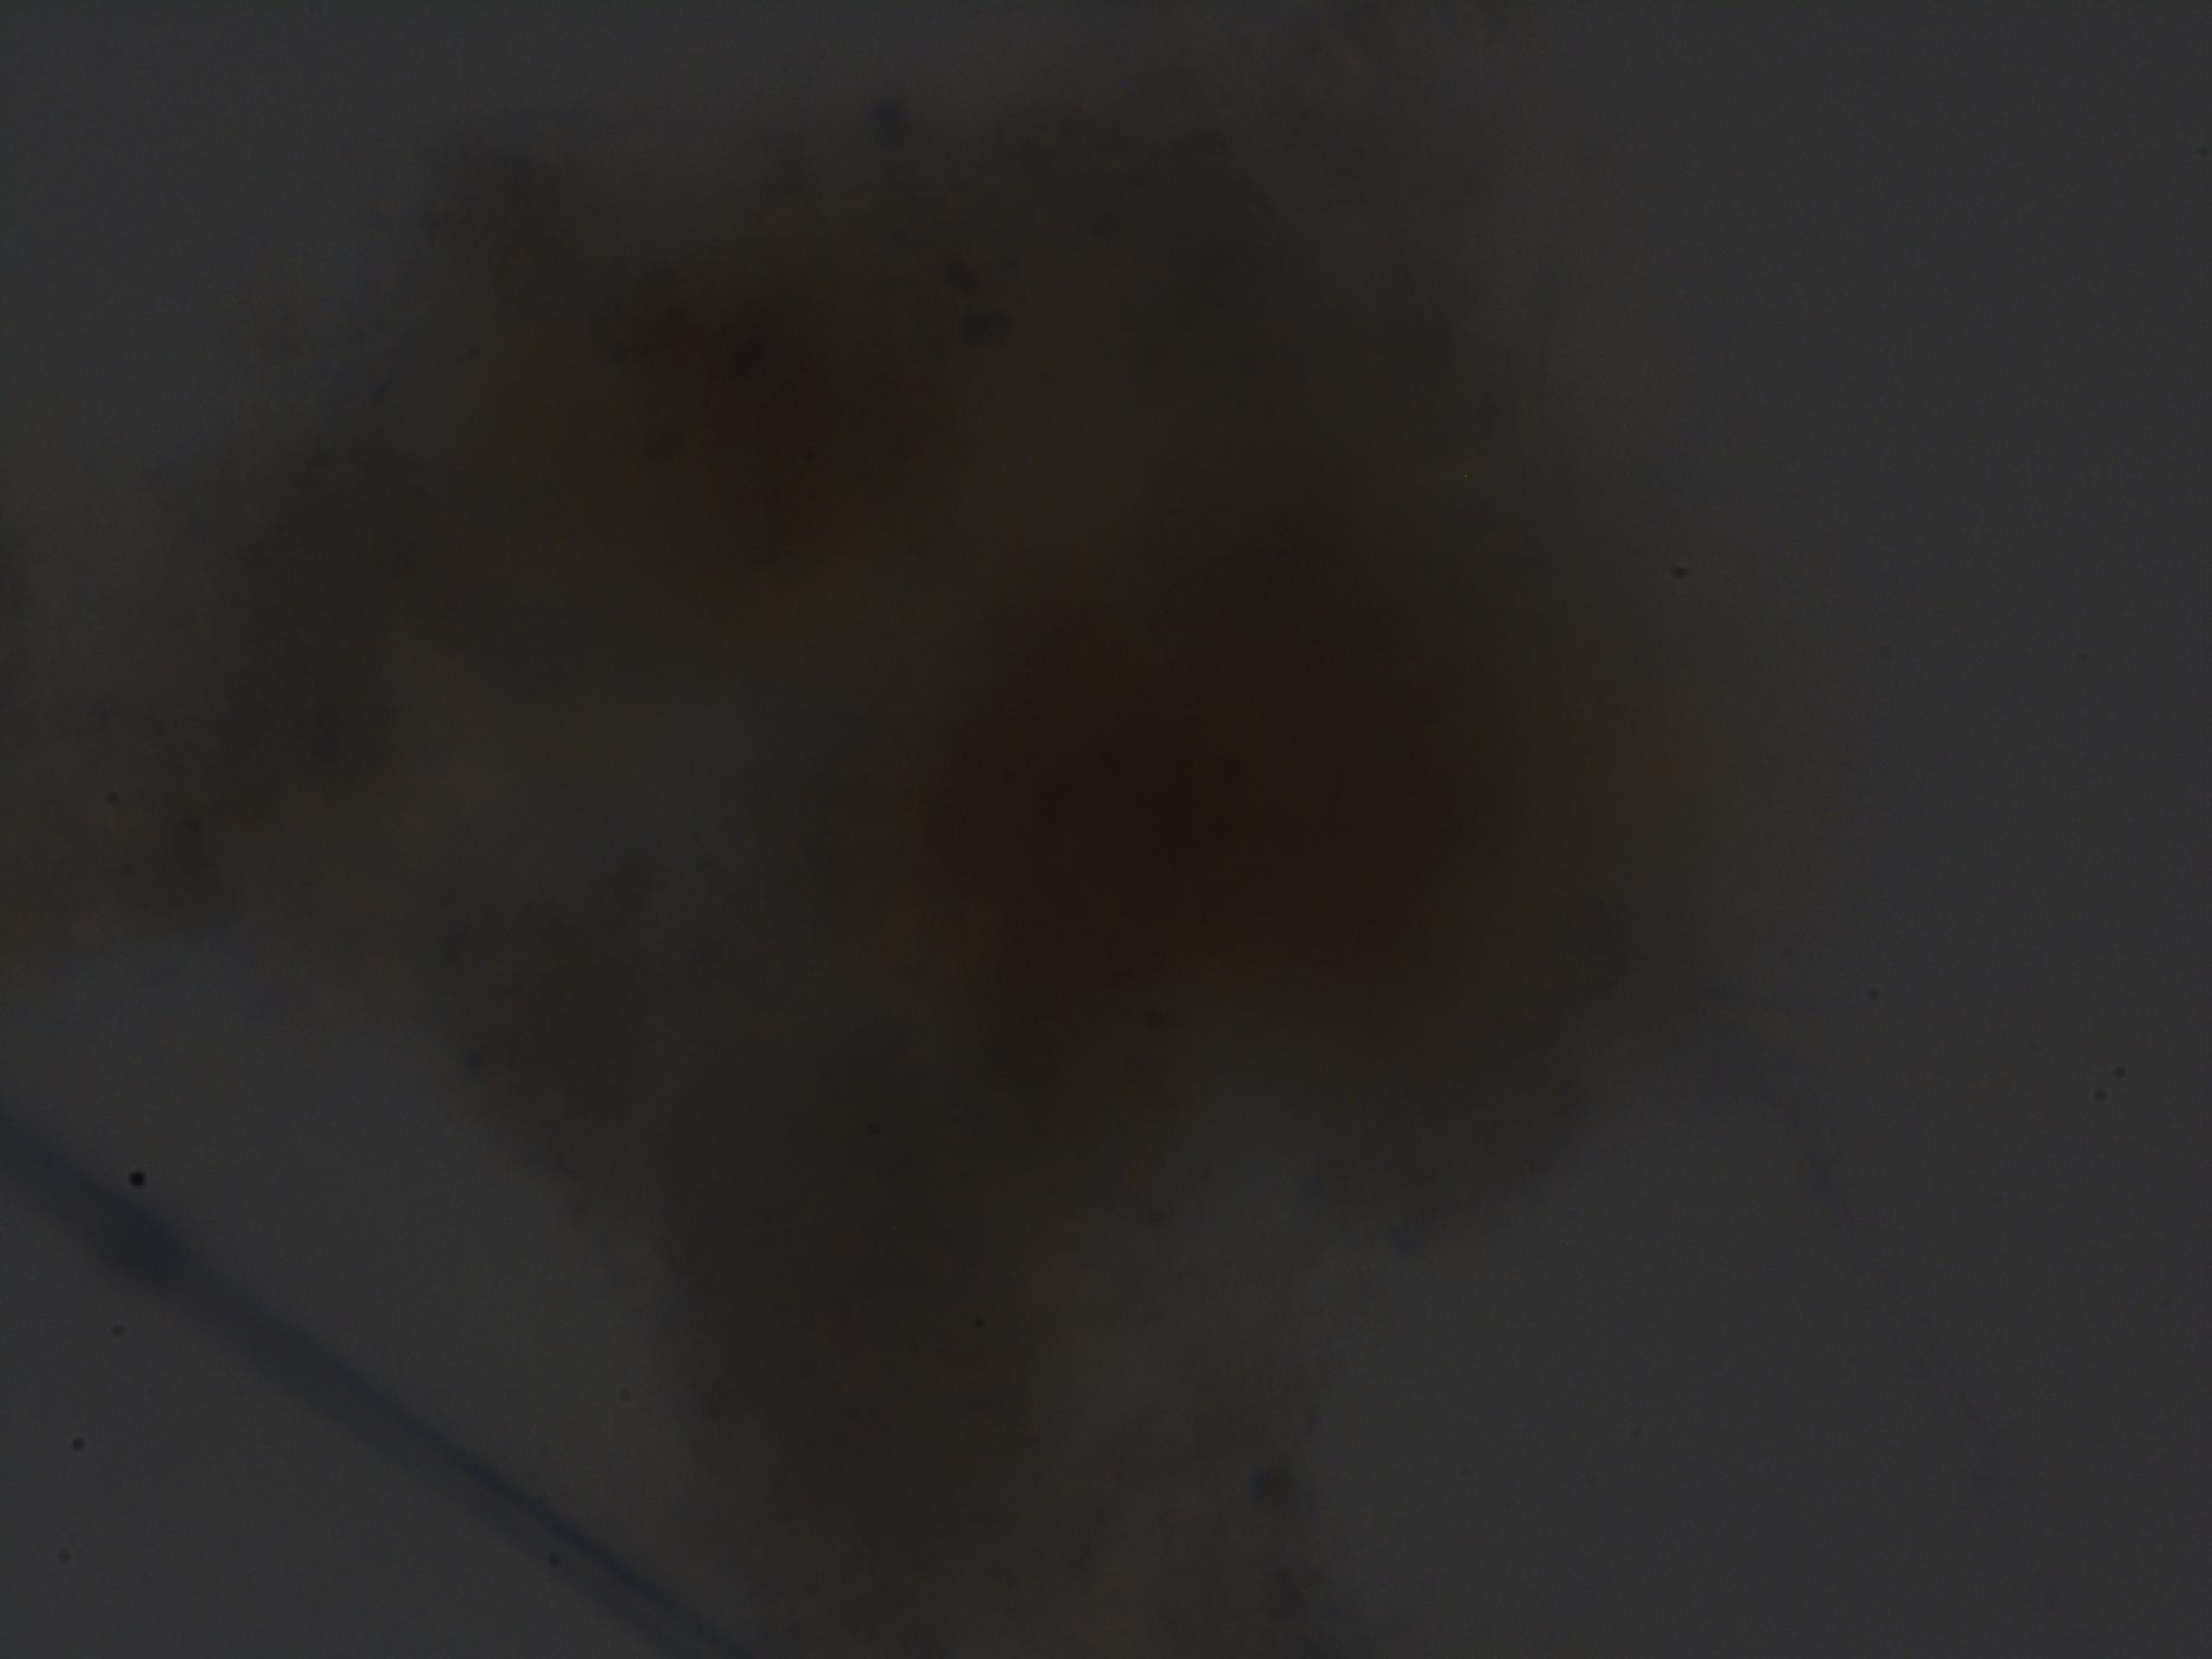filament: (0, 1131, 648, 1659)
